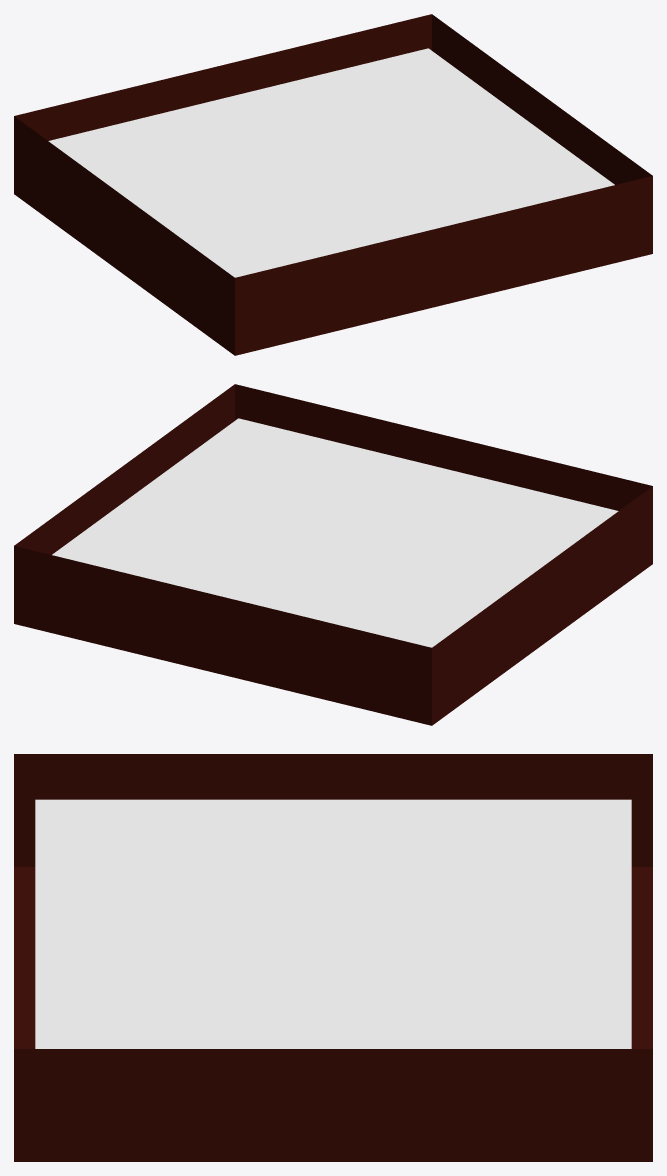
Rendered from bggg.glb.
3 renders of one model, top to bottom at view 1: azimuth 30°, elevation 25°; view 2: azimuth 150°, elevation 25°; view 3: azimuth 270°, elevation 25°, orthographic. The views are drawn at different scales.
Visible parts, largest first — view 1: Cube, Cube.001; view 2: Cube, Cube.001; view 3: Cube.001, Cube.
Part boxes in pixels (x1,y1,x2,y2): Cube: (14, 14, 652, 355); Cube.001: (48, 48, 614, 277); Cube: (14, 384, 652, 725); Cube.001: (52, 418, 618, 647); Cube.001: (35, 799, 631, 1048); Cube: (14, 754, 652, 1161).
Bounding box in the file's own units: 9.77 × 1.74 × 8.95.
